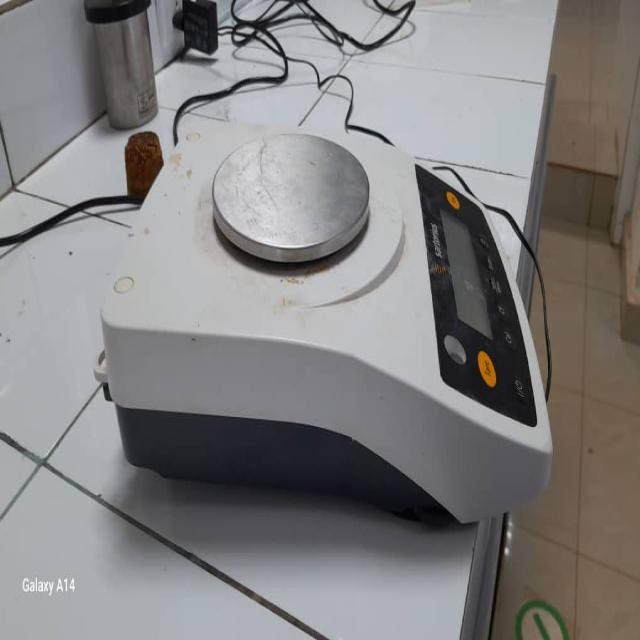Electronic balance: (198, 110, 554, 532)
